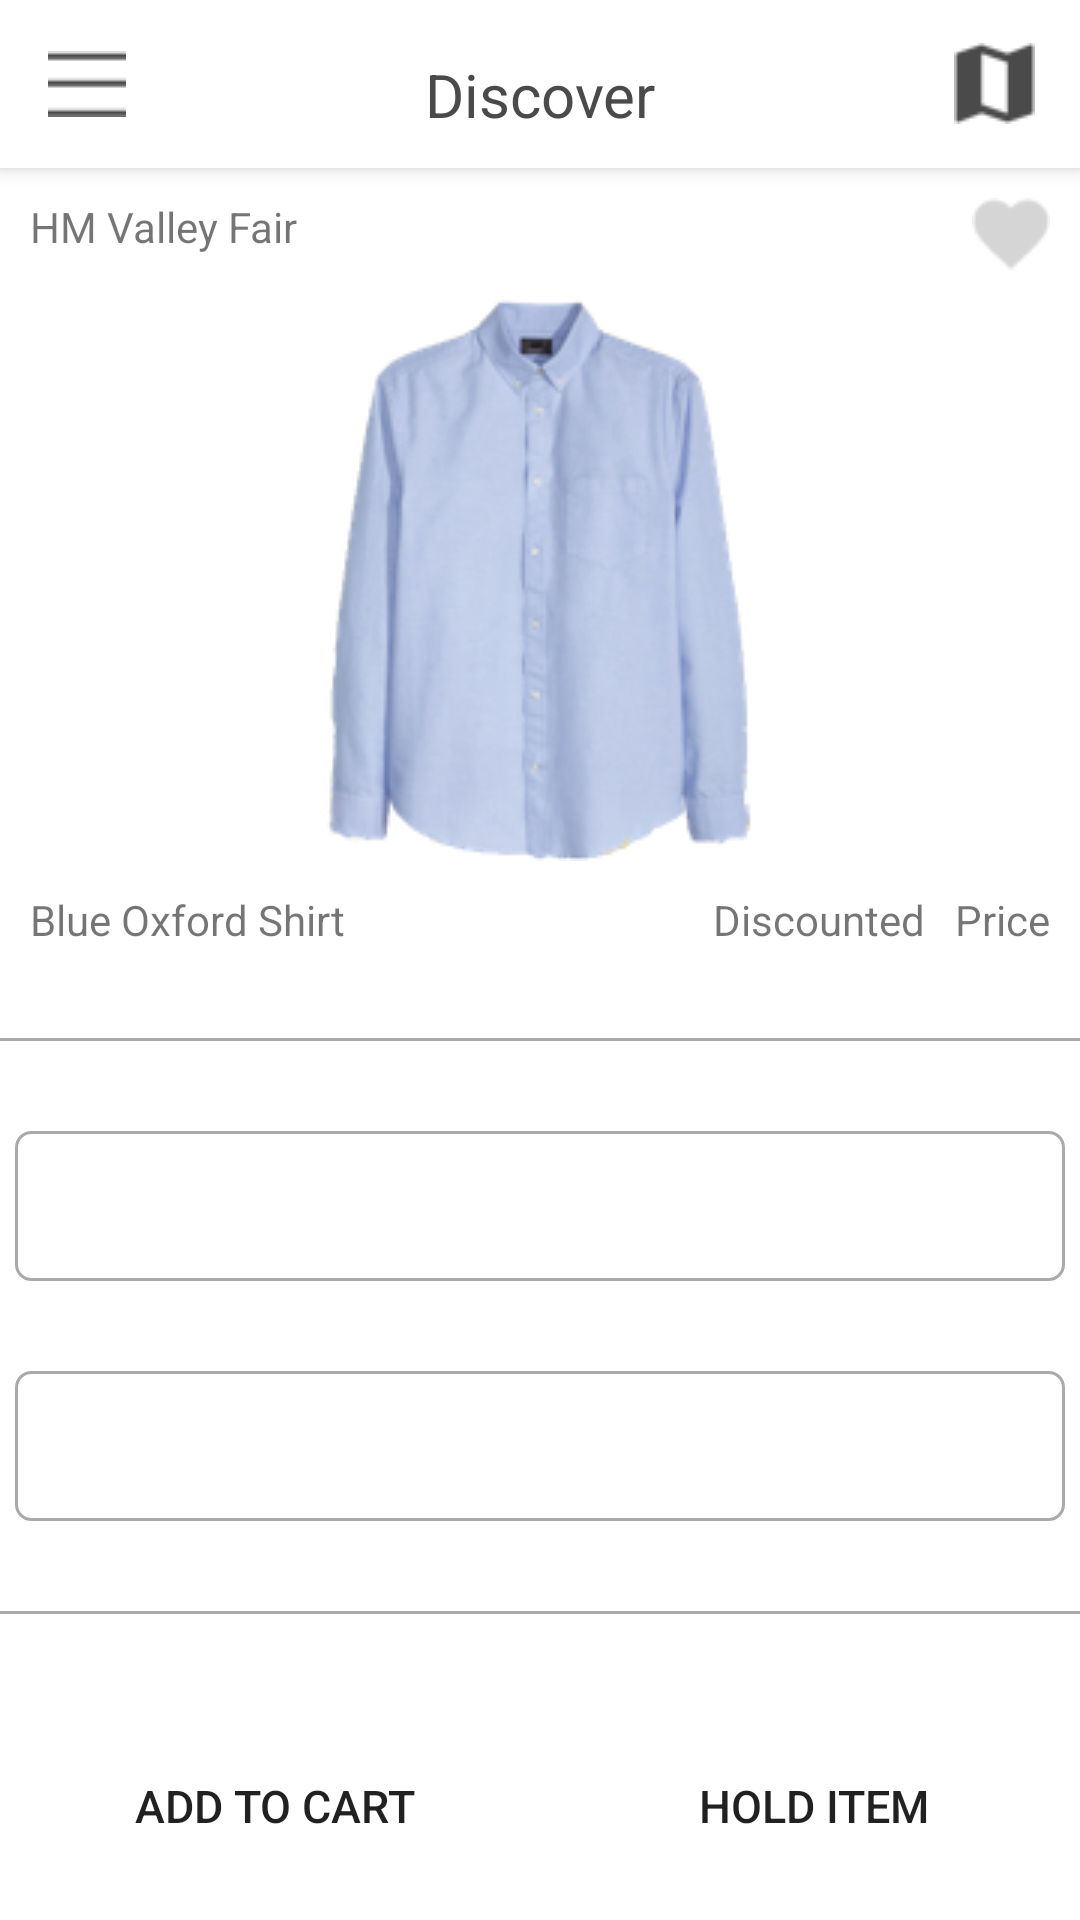

Icon bounding boxes for this 1080x1920 phone screenshot, format (x1, y1, x2, y2):
map: (954, 43, 1035, 124)
menu: (48, 51, 126, 117)
